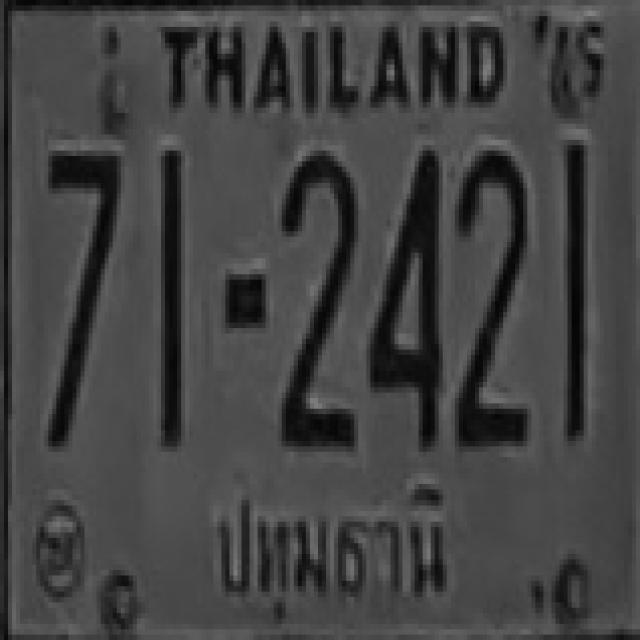1: (157, 148, 190, 452)
2: (449, 153, 534, 453), (278, 150, 361, 456)
4: (367, 143, 448, 451)
7: (41, 147, 125, 449)
PathumThani: (212, 471, 462, 628)
